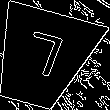L_S: (16, 30, 69, 87)
